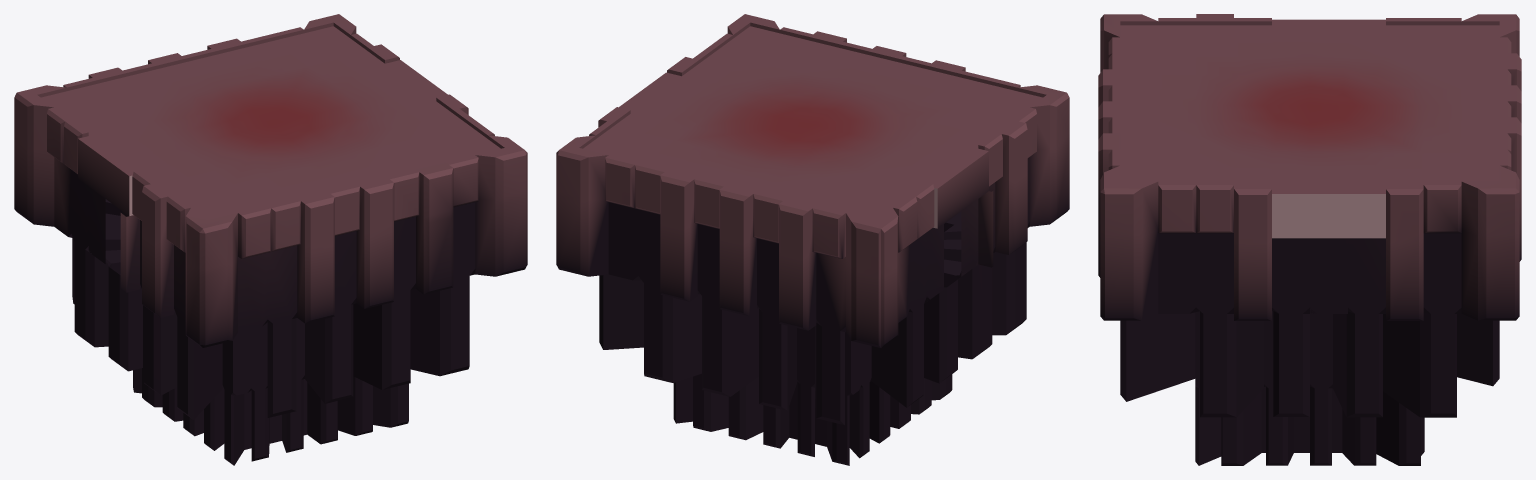
Rendered from Platform1.fbx.
3 views of the same model, side by side, from view 1: azimuth 30°, elevation 25°; view 2: azimuth 150°, elevation 25°; view 3: azimuth 270°, elevation 25° (orthographic). The views are drawn at different scales.
Visible parts, largest first — view 1: arenaSquare; view 2: arenaSquare; view 3: arenaSquare.
Boxes of the visible parts, x1,y1,x2,y2 form: arenaSquare: (14, 14, 527, 465); arenaSquare: (556, 14, 1069, 465); arenaSquare: (1098, 14, 1521, 465).
Bounding box in the file's own units: 1785 × 1478 × 1785.
